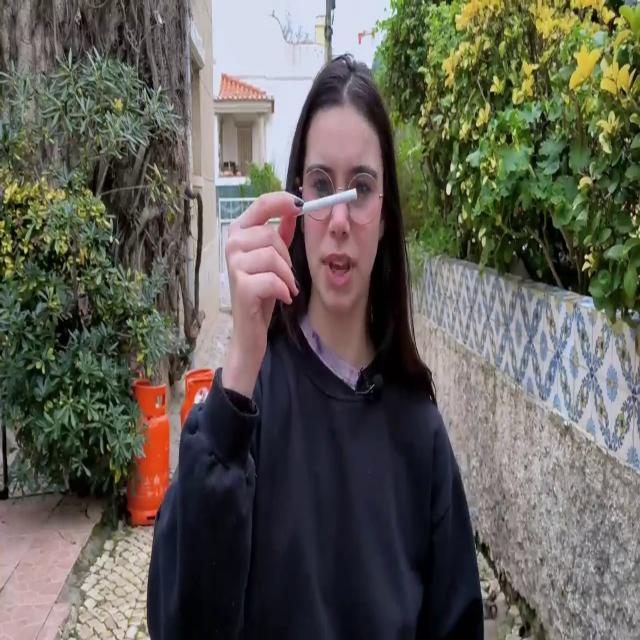Smooking: (299, 176, 373, 222)
